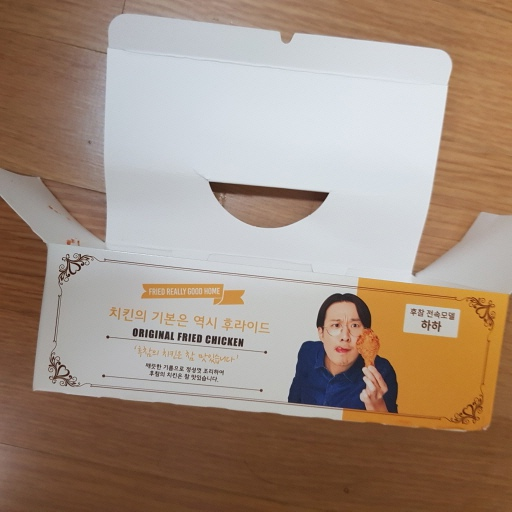Paper_0: (4, 11, 512, 438)
